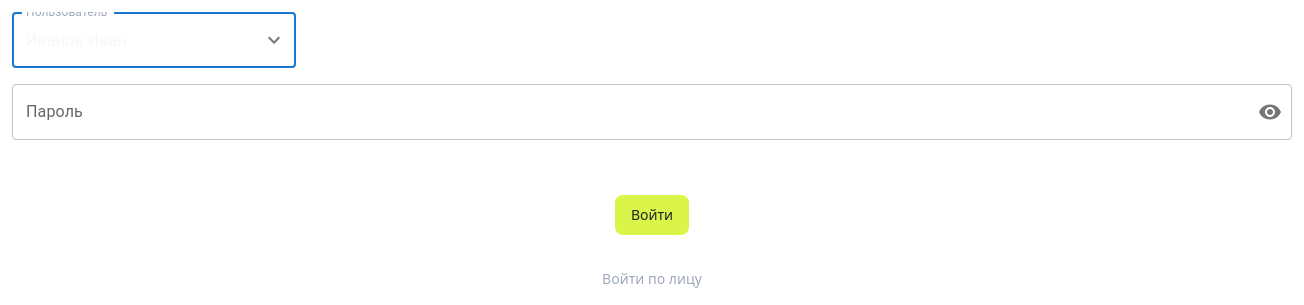
Test: LoginForm › показывает текст отказа с сервера и стирает пароль
Type "tdorozhkina" into the field labelled "Пользователь" at (129,40), box x1=12 y1=12 x2=246 y2=68
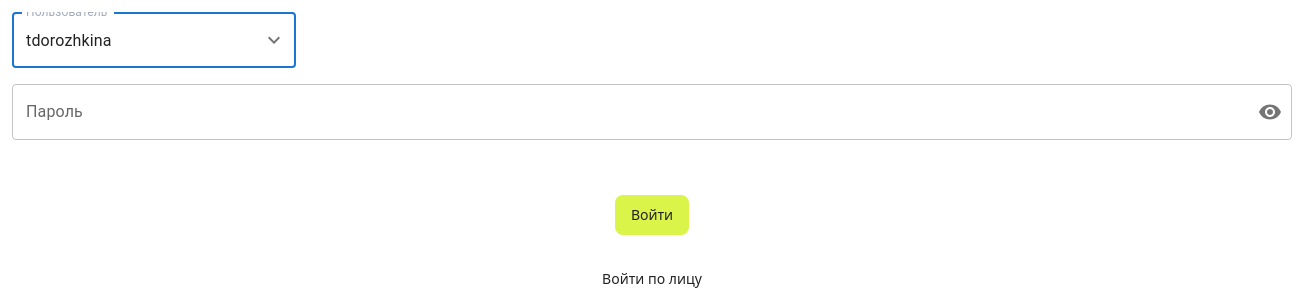
Type "123435" into the password field labelled "Пароль" at (627,112), box x1=12 y1=84 x2=1242 y2=140
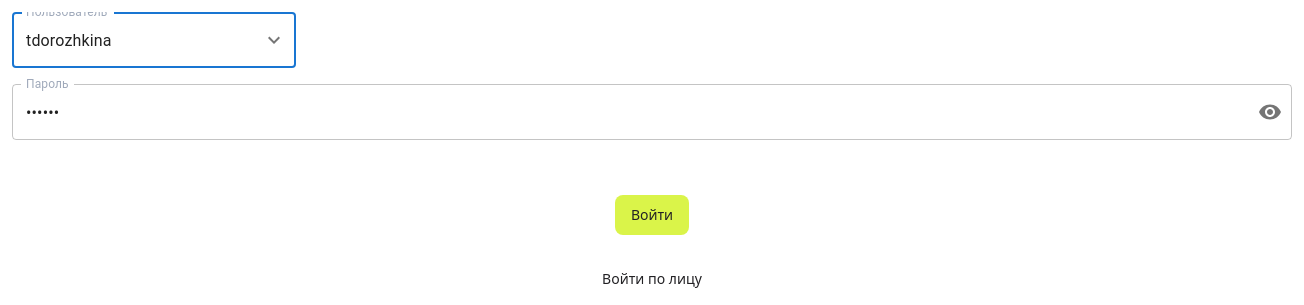
Click the button "Войти" at (652,215), box x1=615 y1=195 x2=689 y2=235
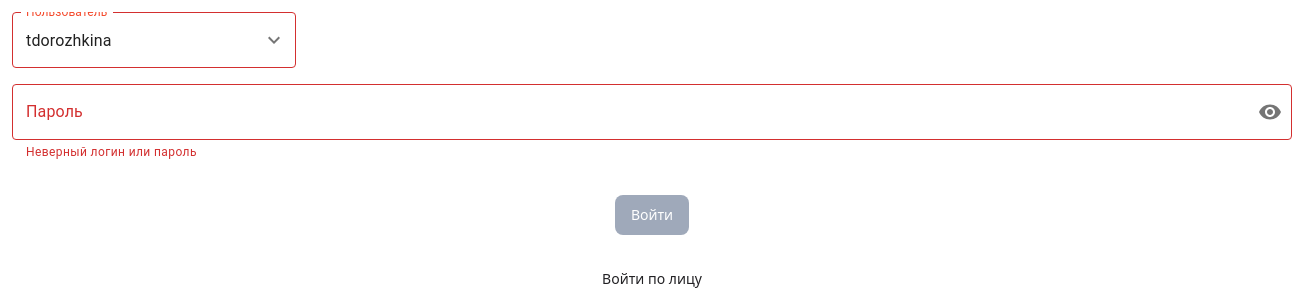
Expected: the text "Неверный логин или пароль" is shown, x1=26 y1=145 x2=197 y2=159
Expected: the password field labelled "Пароль" is empty
Expected: the button "Войти" is disabled, x1=615 y1=195 x2=689 y2=235
Type "новый" into the password field labelled "Пароль" at (627,112), box x1=12 y1=84 x2=1242 y2=140
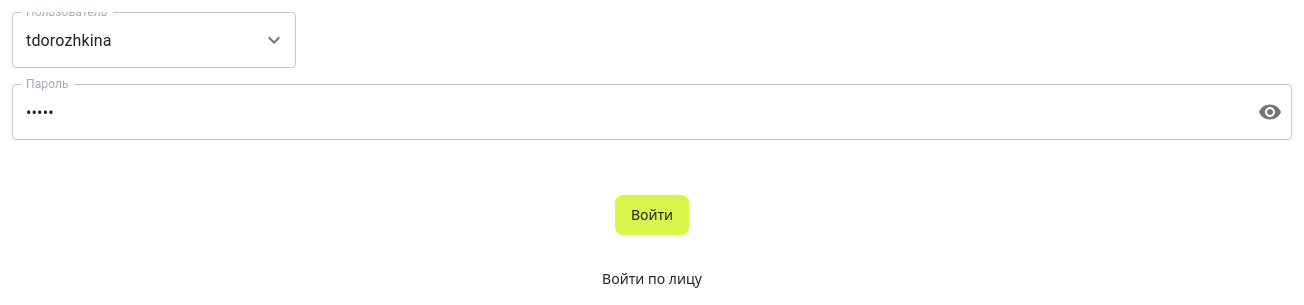
Expected: the button "Войти" is enabled, x1=615 y1=195 x2=689 y2=235
Expected: the text "Неверный логин или пароль" is gone
